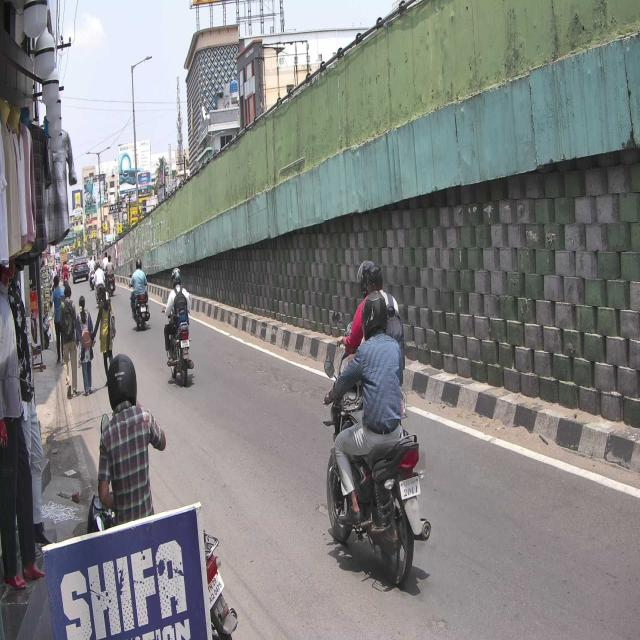single_rider: (320, 293, 432, 582)
